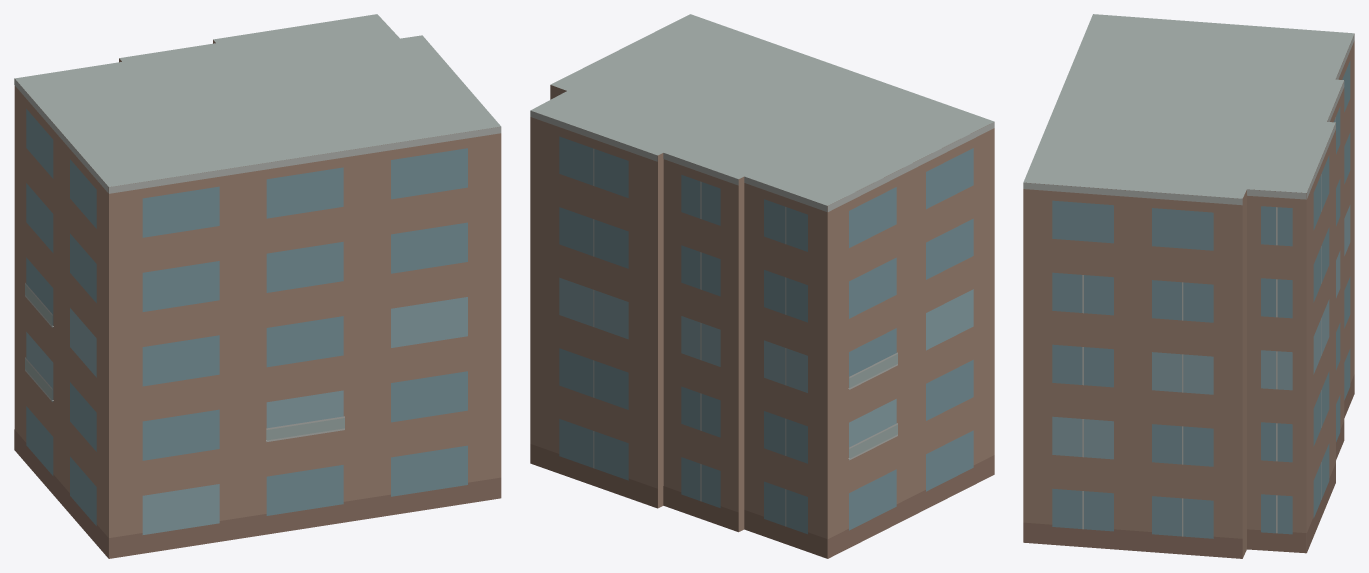
Rendered from survey-upis-32658215.glb.
3 renders of one model, left to right at view 1: azimuth 30°, elevation 25°; view 2: azimuth 150°, elevation 25°; view 3: azimuth 270°, elevation 25°, orthographic. The views are drawn at different scales.
Visible parts, largest first — view 1: survey-upis-32658215.tmp; view 2: survey-upis-32658215.tmp; view 3: survey-upis-32658215.tmp.
Part boxes in pixels (bbox=[...]): survey-upis-32658215.tmp: bbox=[14, 14, 501, 558]; survey-upis-32658215.tmp: bbox=[530, 14, 994, 558]; survey-upis-32658215.tmp: bbox=[1023, 14, 1354, 558].
Size of the model in its own units: 14.92 by 13.55 by 11.31.
